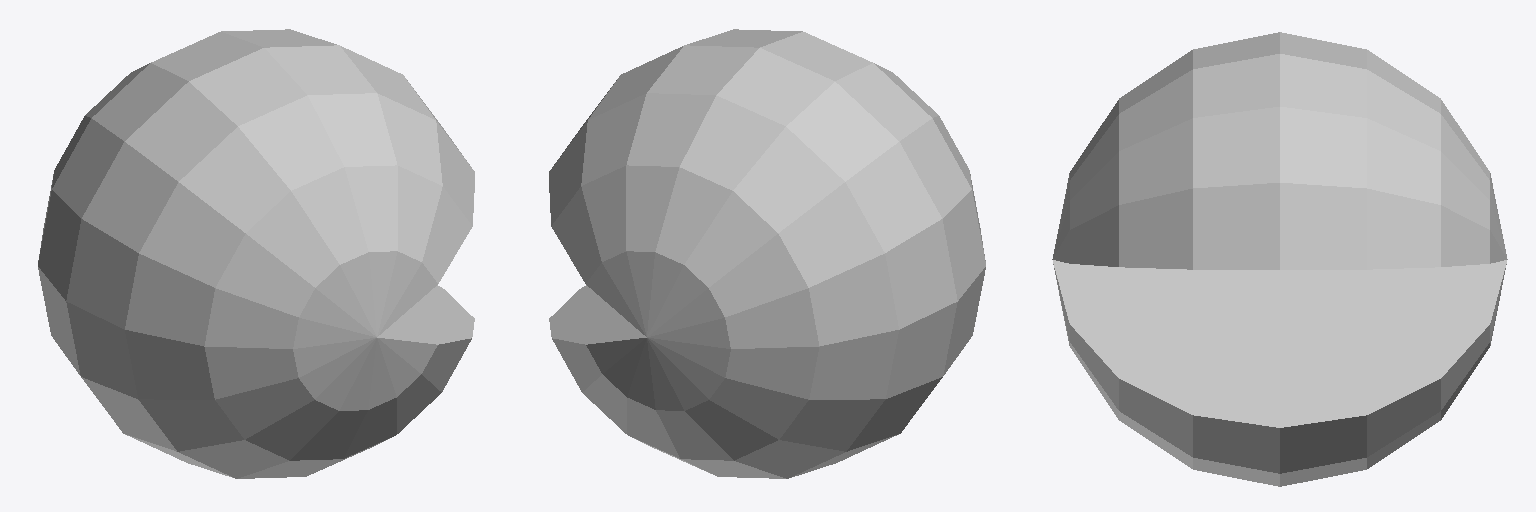
The model's file is pacman.obj.
3 views of the same model, side by side, from view 1: azimuth 30°, elevation 25°; view 2: azimuth 150°, elevation 25°; view 3: azimuth 270°, elevation 25° (orthographic).
Parts seen in each view (by area): view 1: Sphere; view 2: Sphere; view 3: Sphere.
Part boxes in pixels (bbox=[...]): Sphere: bbox=[38, 29, 474, 478]; Sphere: bbox=[549, 29, 985, 478]; Sphere: bbox=[1052, 32, 1507, 486].
Bounding box in the file's own units: 1.93 × 2 × 2.